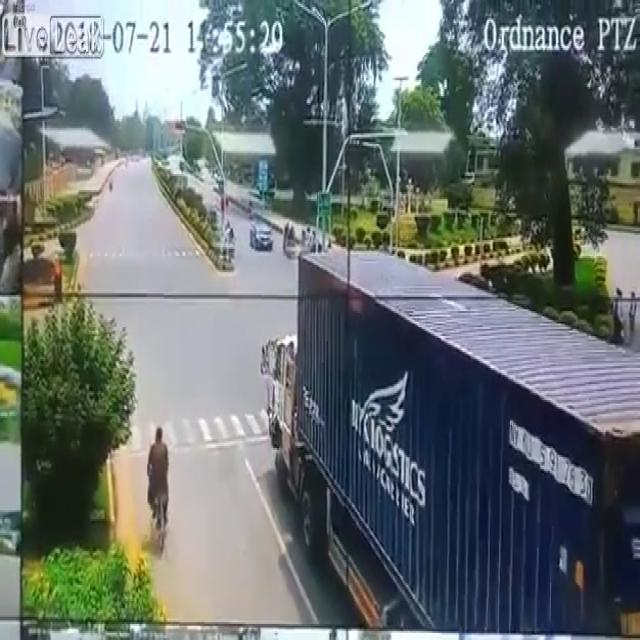car: (252, 222, 274, 251)
motorbike: (148, 426, 171, 562)
truck: (255, 254, 640, 640)
